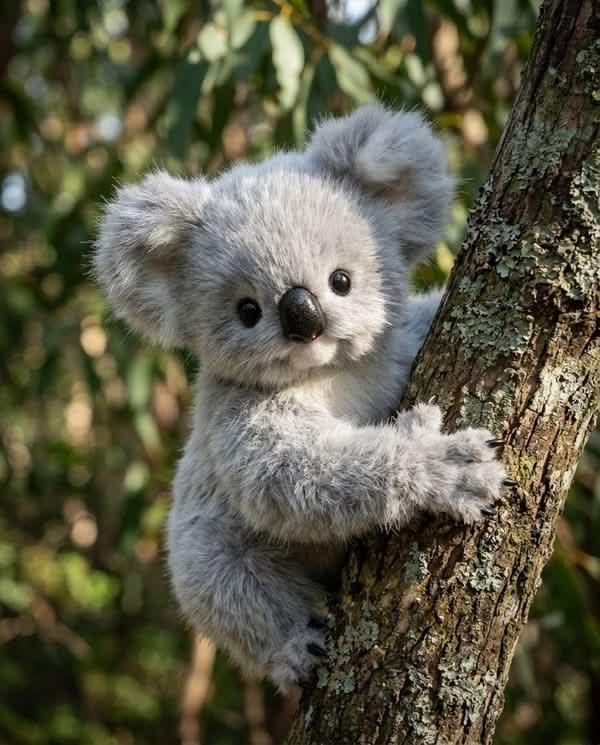koala: (94, 104, 505, 689)
